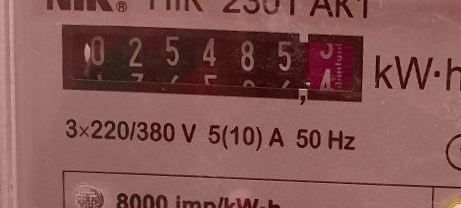0: (86, 31, 108, 67)
2: (125, 33, 146, 69)
4: (198, 33, 220, 68), (316, 64, 336, 93)
5: (273, 36, 295, 74), (161, 31, 182, 67)
8: (237, 35, 258, 74)
screen: (49, 14, 374, 114)
